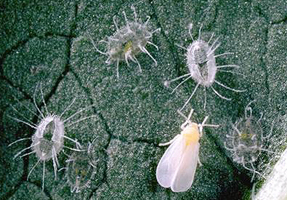Tobacco Whitefly: (154, 108, 209, 196)
